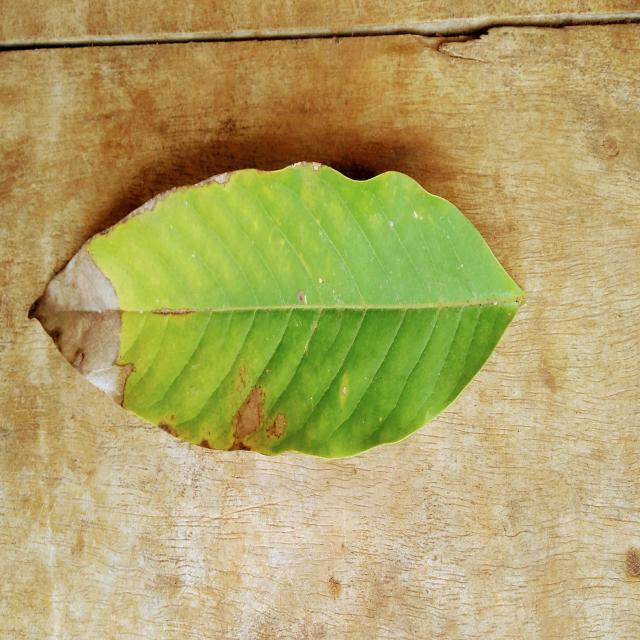leaf spot: (31, 162, 522, 458)
